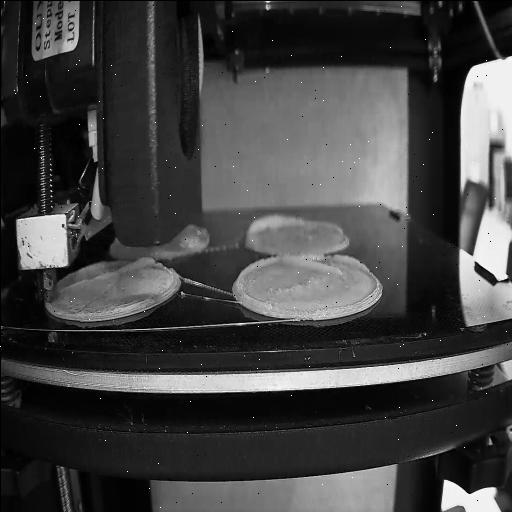over_extrusion: (61, 256, 151, 294), (232, 255, 274, 309), (280, 254, 370, 276), (241, 212, 307, 238), (332, 221, 346, 235)
